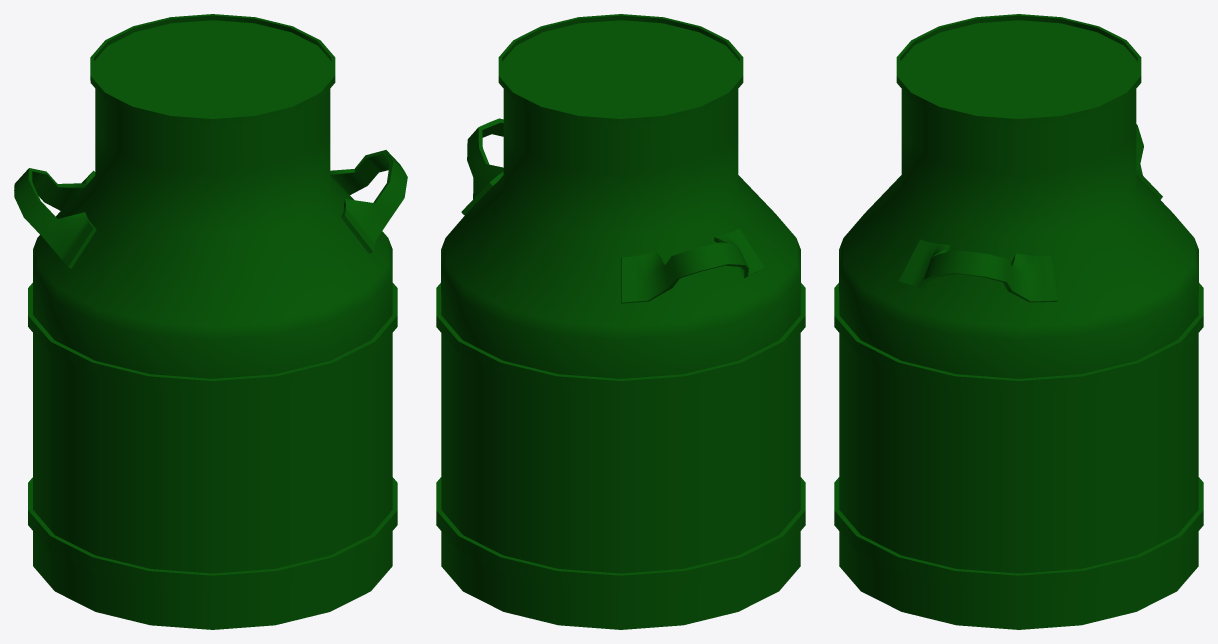
The model's file is jug10.FBX.
3 views of the same model, side by side, from view 1: azimuth 30°, elevation 25°; view 2: azimuth 150°, elevation 25°; view 3: azimuth 270°, elevation 25° (orthographic).
Visible parts, largest first — view 1: SM_jug10_0; view 2: SM_jug10_0; view 3: SM_jug10_0.
Boxes of the visible parts, x1,y1,x2,y2 form: SM_jug10_0: [14, 14, 407, 629]; SM_jug10_0: [436, 14, 805, 629]; SM_jug10_0: [834, 14, 1203, 629].
Size of the model in its own units: 38.24 by 36.77 by 53.39.
